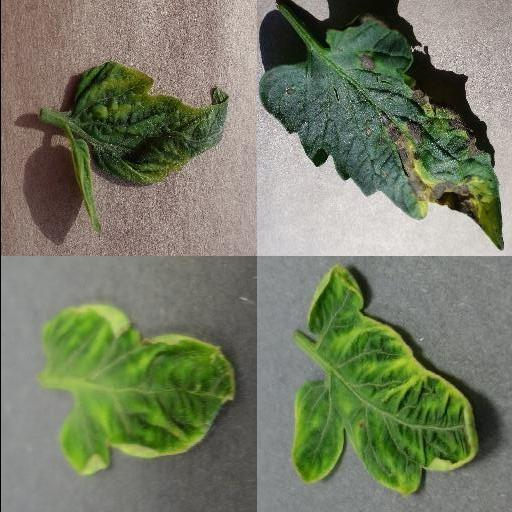Early Blight: (256, 14, 502, 252)
Yellow Leaf Curl Virus: (291, 265, 483, 498), (39, 303, 235, 475), (73, 62, 229, 184)
